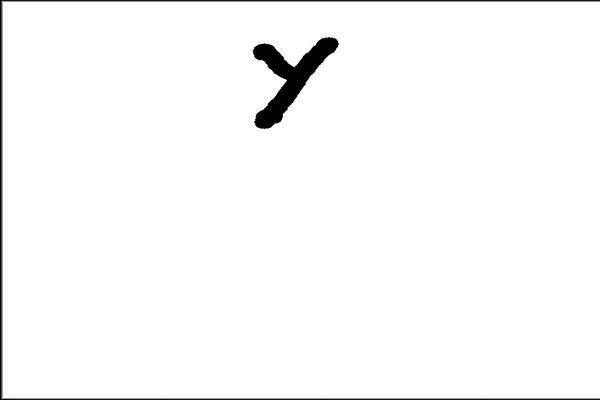Y: (241, 33, 381, 139)
